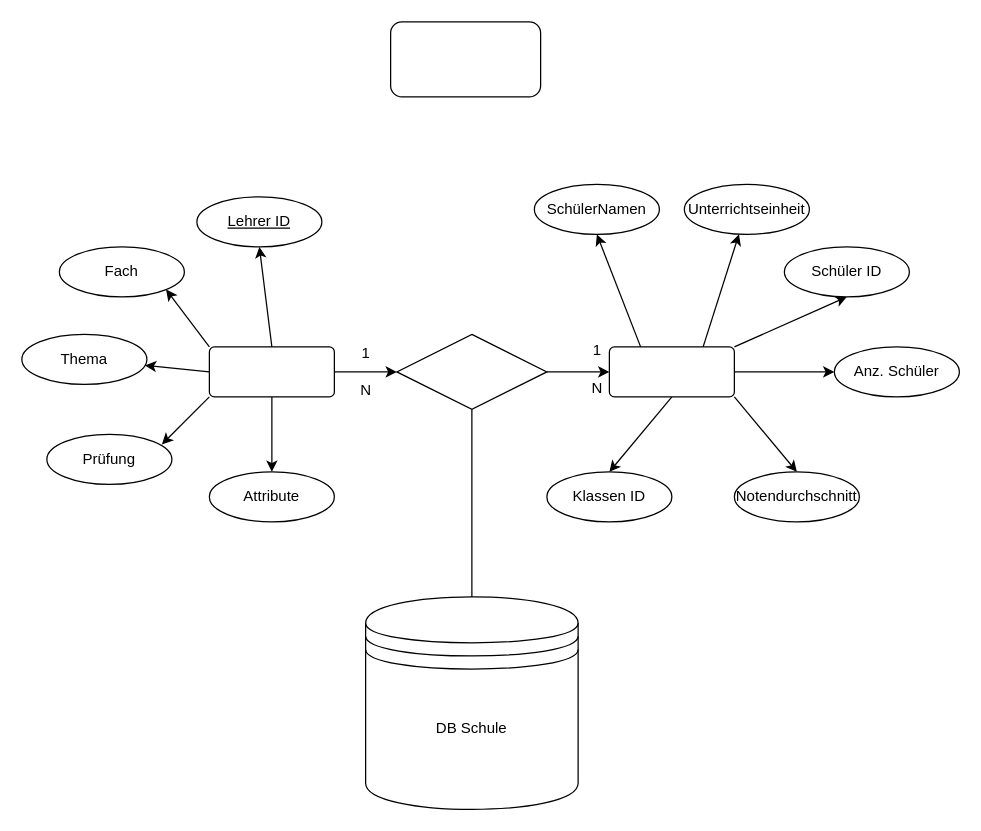
This 981x831 diagram has some shape labels left out. Here are the shapes that lost their labels. From the top down, the centre of each, then its label:
At [465,59]: "ERD".
At [271,371]: "Lehrer".
At [471,371]: "haben".
At [671,371]: "Klassen".
